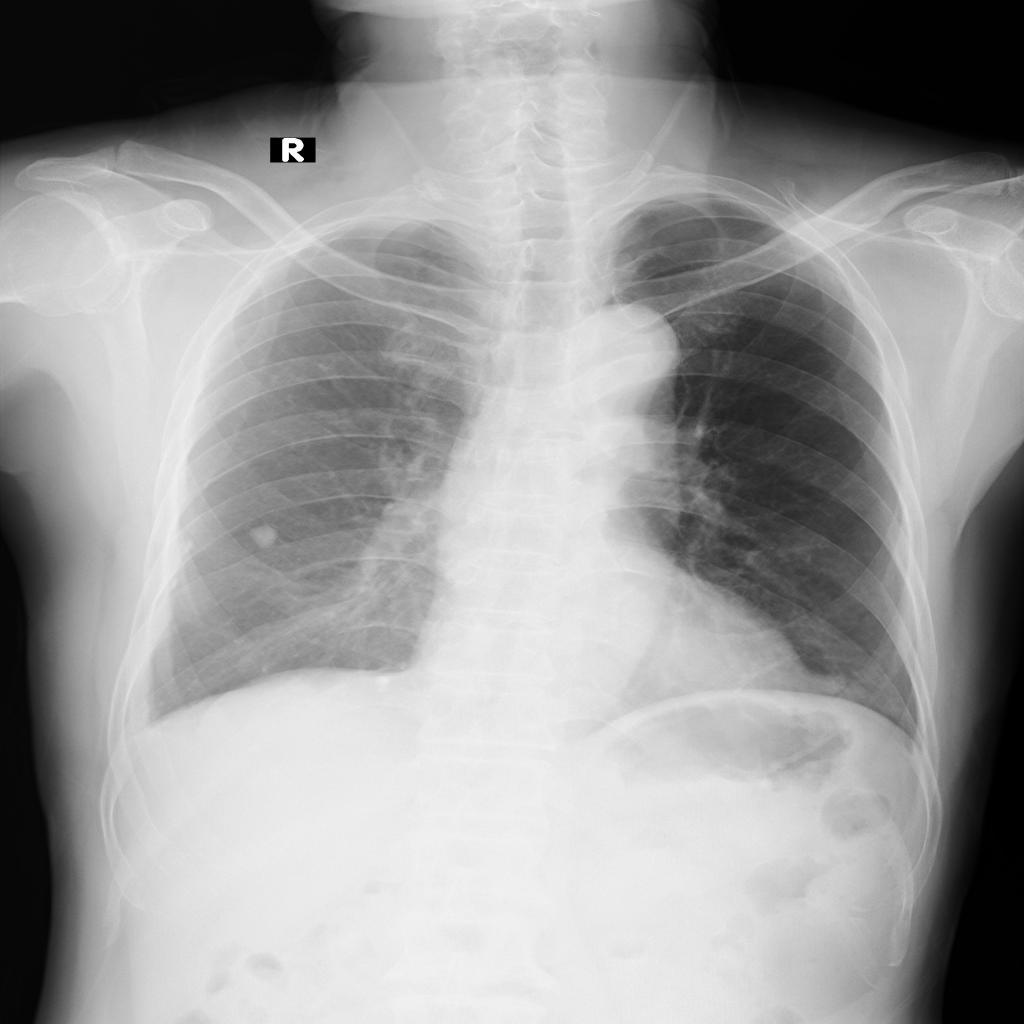Nodule: (247, 525, 281, 550)
